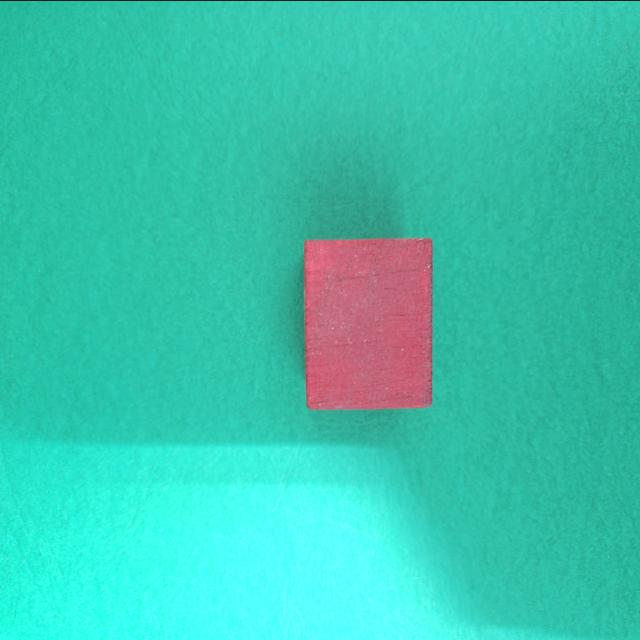red_block: (308, 238, 433, 405)
